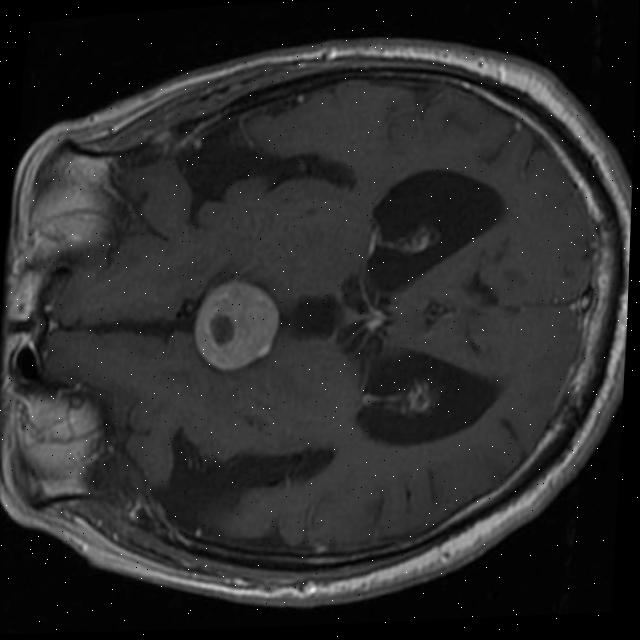Pituitary: (189, 277, 283, 375)
